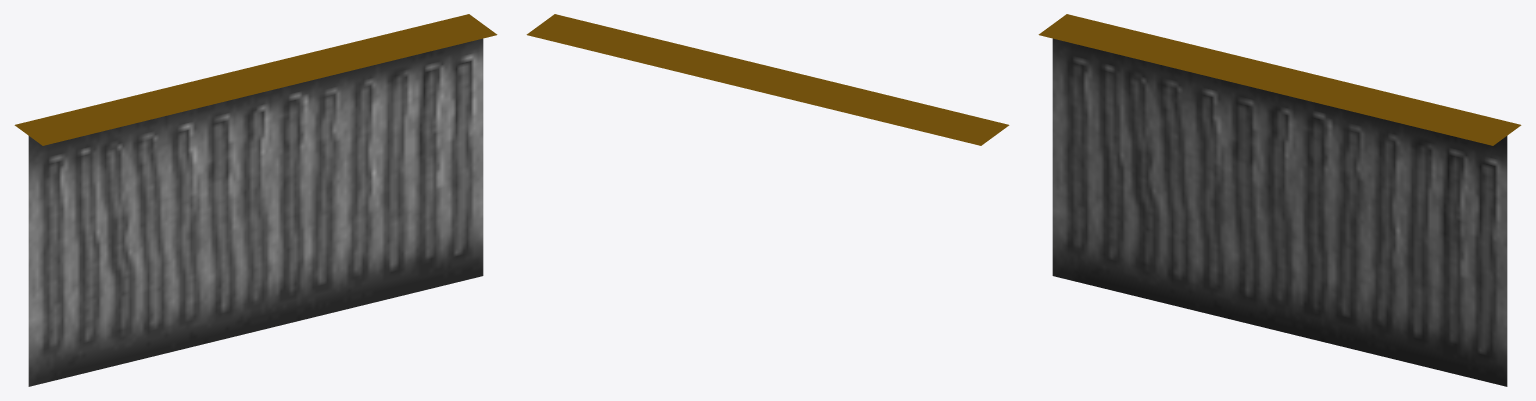
The model's file is Geländer1_Hoch [WellblechHoch]_1572.glb.
3 views of the same model, side by side, from view 1: azimuth 30°, elevation 25°; view 2: azimuth 150°, elevation 25°; view 3: azimuth 330°, elevation 25° (orthographic).
Parts seen in each view (by area): view 1: pPlaneShape229, pPlaneShape230; view 2: pPlaneShape230; view 3: pPlaneShape229, pPlaneShape230.
Boxes of the visible parts, bbox=[...] form: pPlaneShape229: bbox=[28, 38, 483, 386]; pPlaneShape230: bbox=[14, 14, 497, 145]; pPlaneShape230: bbox=[526, 14, 1009, 145]; pPlaneShape229: bbox=[1052, 38, 1507, 386]; pPlaneShape230: bbox=[1038, 14, 1521, 145].
Size of the model in its own units: 0.2229 by 0.1177 by 0.0243.
Materials: 2 (1 with a texture image).
